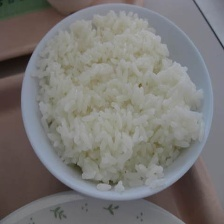rice: (31, 9, 208, 193)
